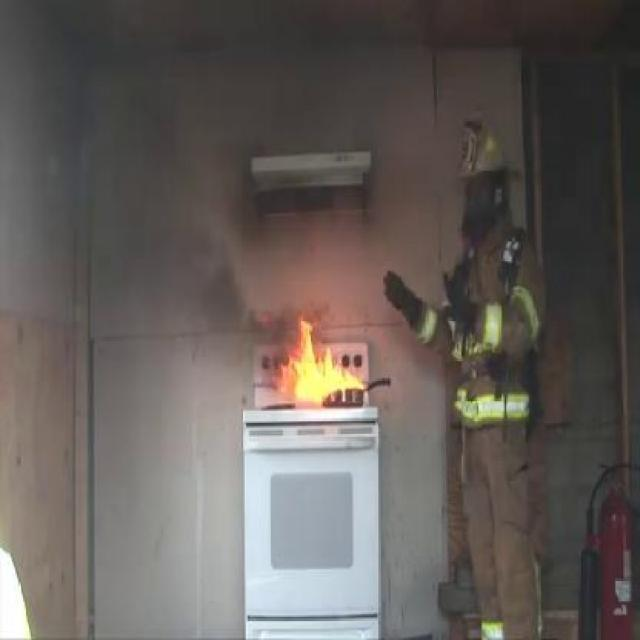fire: (277, 317, 365, 392)
